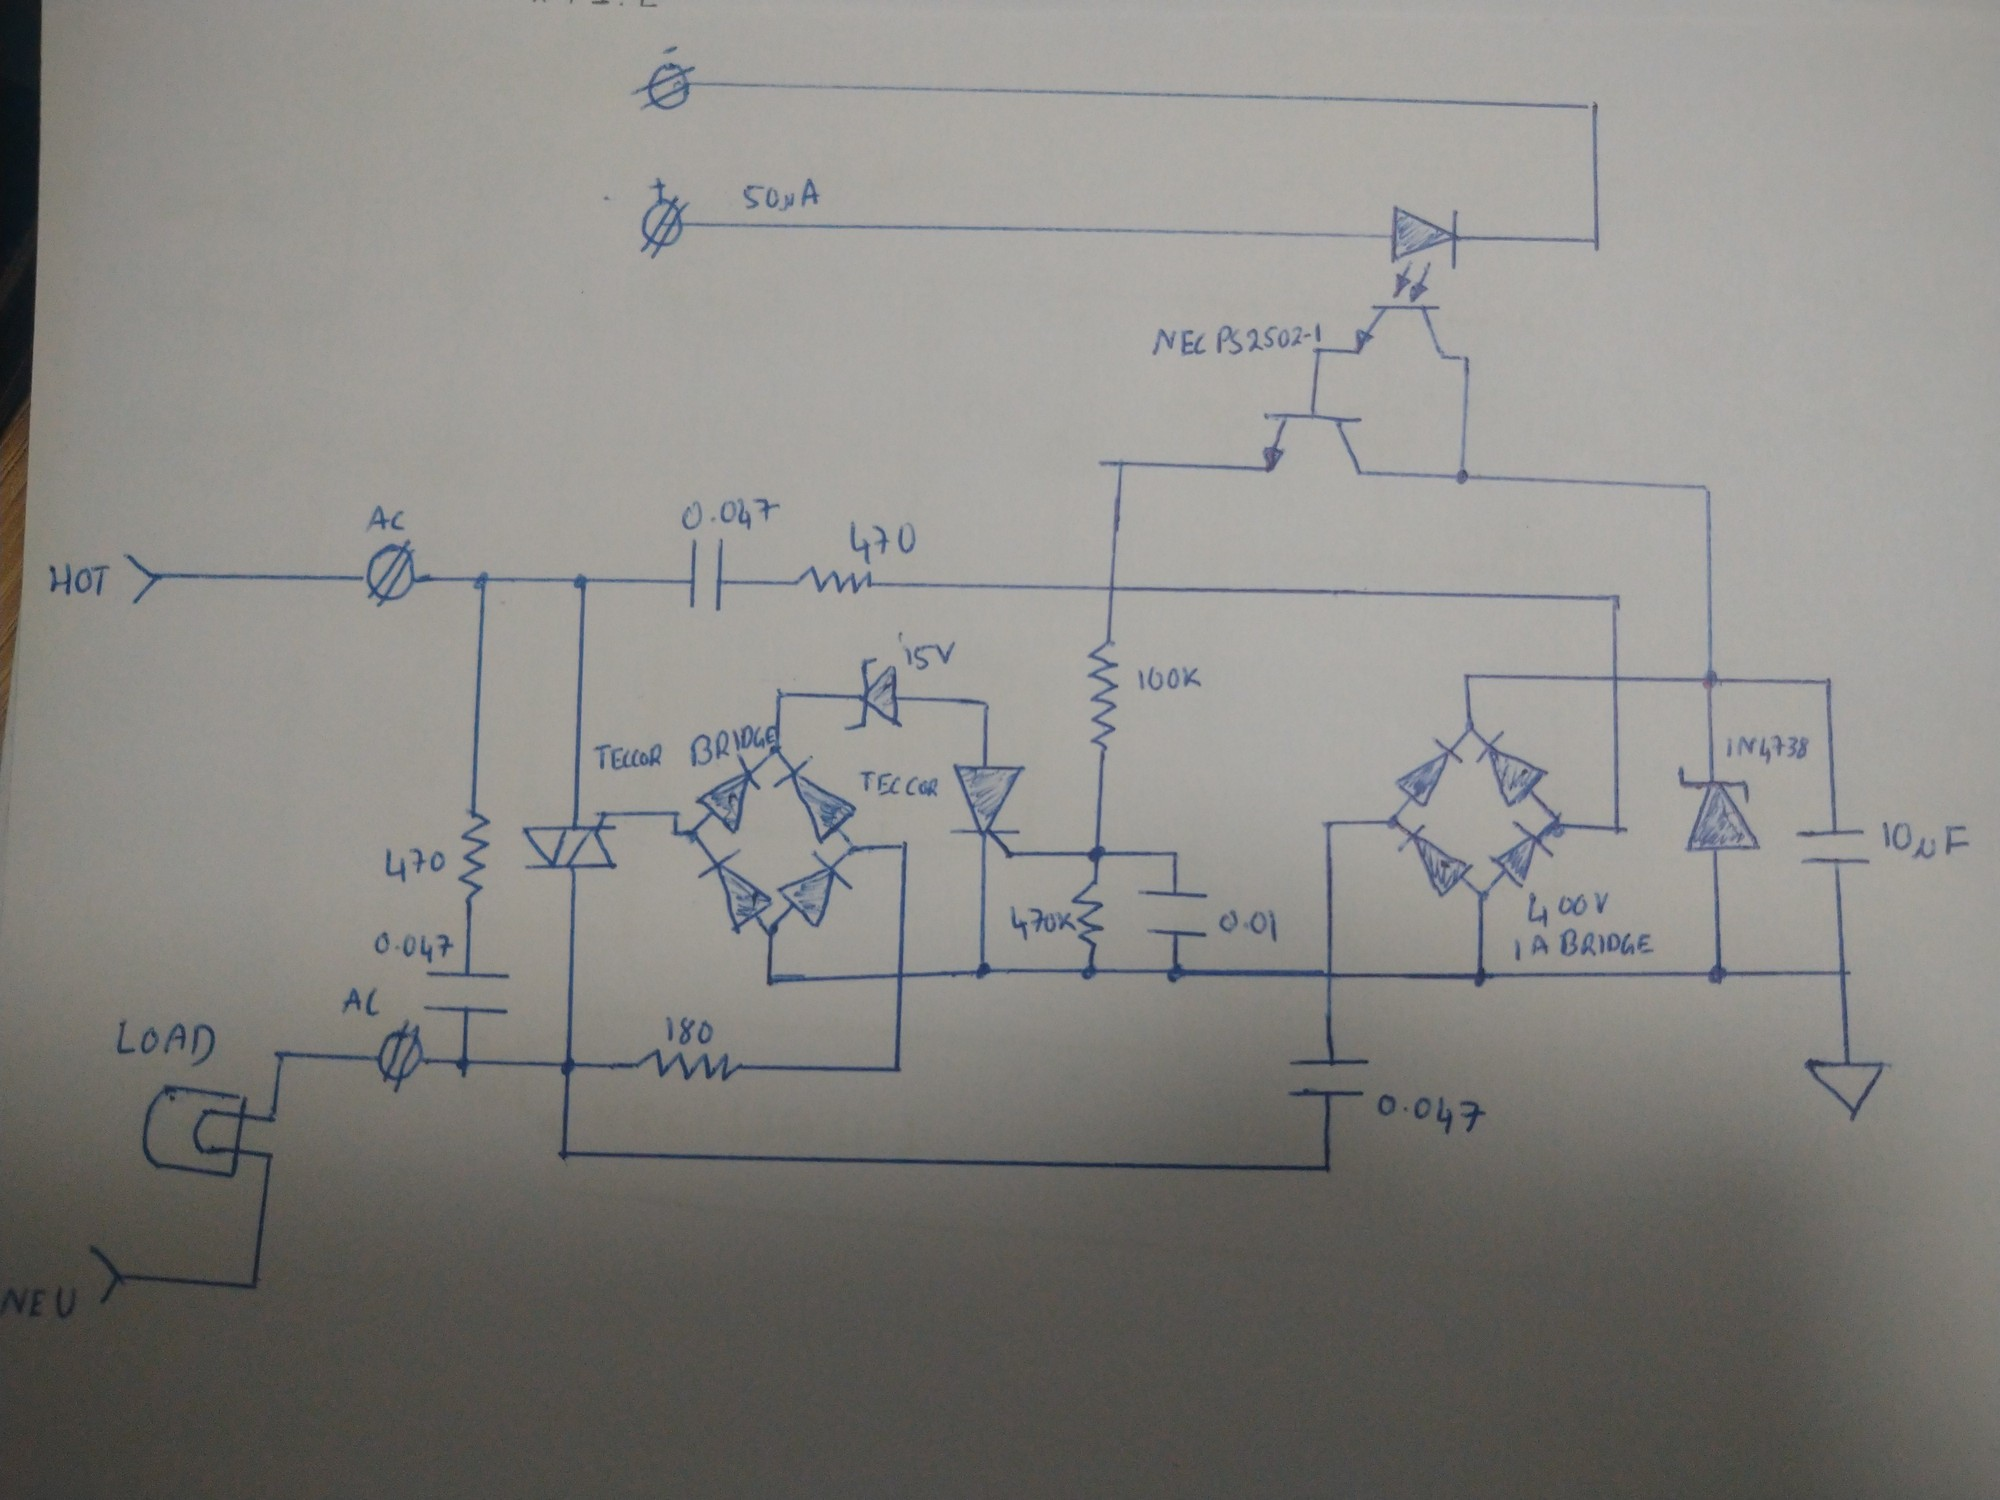capacitor.unpolarized: (424, 964, 510, 1026), (1287, 1049, 1369, 1106), (1139, 882, 1209, 945), (1795, 822, 1872, 871), (683, 536, 731, 614)
crossover: (1102, 578, 1124, 600), (1603, 670, 1625, 689), (890, 967, 912, 985), (1320, 967, 1342, 983)
diode: (1676, 766, 1762, 852), (775, 756, 857, 841), (699, 849, 772, 931), (776, 851, 854, 926), (1476, 731, 1548, 808), (1397, 826, 1471, 898), (698, 755, 761, 834), (844, 655, 902, 734), (1395, 737, 1461, 807), (1490, 819, 1553, 887)
gnd: (1805, 1057, 1891, 1120)
junction: (1543, 810, 1570, 838), (1706, 963, 1731, 985), (557, 1056, 580, 1079), (572, 570, 594, 592), (1699, 670, 1721, 692), (1606, 818, 1630, 838), (1085, 845, 1109, 863), (1471, 964, 1490, 988), (1109, 455, 1132, 474), (1165, 963, 1186, 983), (973, 961, 994, 982), (454, 1053, 472, 1075), (1694, 477, 1717, 496), (472, 569, 490, 592), (1384, 813, 1405, 832), (1606, 589, 1625, 610), (269, 1046, 291, 1064), (1318, 1158, 1337, 1177), (1452, 466, 1471, 485), (772, 684, 791, 703), (1583, 98, 1602, 117), (1586, 233, 1606, 251), (1080, 963, 1098, 982), (246, 1276, 265, 1294), (1458, 718, 1477, 736), (1457, 670, 1476, 687), (1312, 342, 1329, 361), (1472, 887, 1491, 904), (1165, 846, 1186, 862), (976, 696, 997, 712), (844, 841, 861, 859), (898, 837, 913, 856), (764, 922, 780, 941), (890, 1060, 906, 1078), (1836, 964, 1854, 980), (556, 1144, 572, 1161), (767, 744, 784, 759), (1820, 673, 1836, 690), (1458, 351, 1476, 367), (261, 1147, 277, 1163), (764, 972, 778, 989), (1321, 816, 1339, 830), (669, 826, 682, 841), (685, 826, 699, 838), (265, 1111, 279, 1123), (669, 807, 682, 819)
lamp: (142, 1084, 247, 1179)
optocoupler: (1354, 205, 1458, 362)
resistor: (635, 1048, 742, 1082), (1087, 640, 1120, 752), (457, 810, 491, 904), (794, 564, 876, 596), (1071, 881, 1104, 945)
terminal: (631, 63, 698, 112), (641, 199, 691, 258), (88, 1245, 124, 1305), (121, 551, 159, 605)
text: (1151, 323, 1321, 356), (1510, 928, 1657, 963), (113, 1018, 216, 1067), (1376, 1093, 1488, 1134), (690, 723, 775, 769), (1880, 819, 1970, 862), (679, 496, 780, 531), (847, 518, 917, 564), (1526, 890, 1609, 928), (743, 176, 820, 213), (373, 930, 454, 964), (1724, 734, 1811, 764), (1009, 904, 1077, 942), (2, 1286, 79, 1319), (860, 769, 940, 800), (46, 561, 112, 597), (383, 846, 446, 884), (1217, 909, 1279, 944), (594, 742, 665, 770), (1135, 663, 1205, 692), (904, 640, 957, 671), (665, 1015, 717, 1046), (364, 504, 408, 536), (340, 986, 383, 1016)
thyristor: (948, 761, 1027, 860)
transistor: (1261, 411, 1365, 477)
triac: (520, 807, 620, 873)
